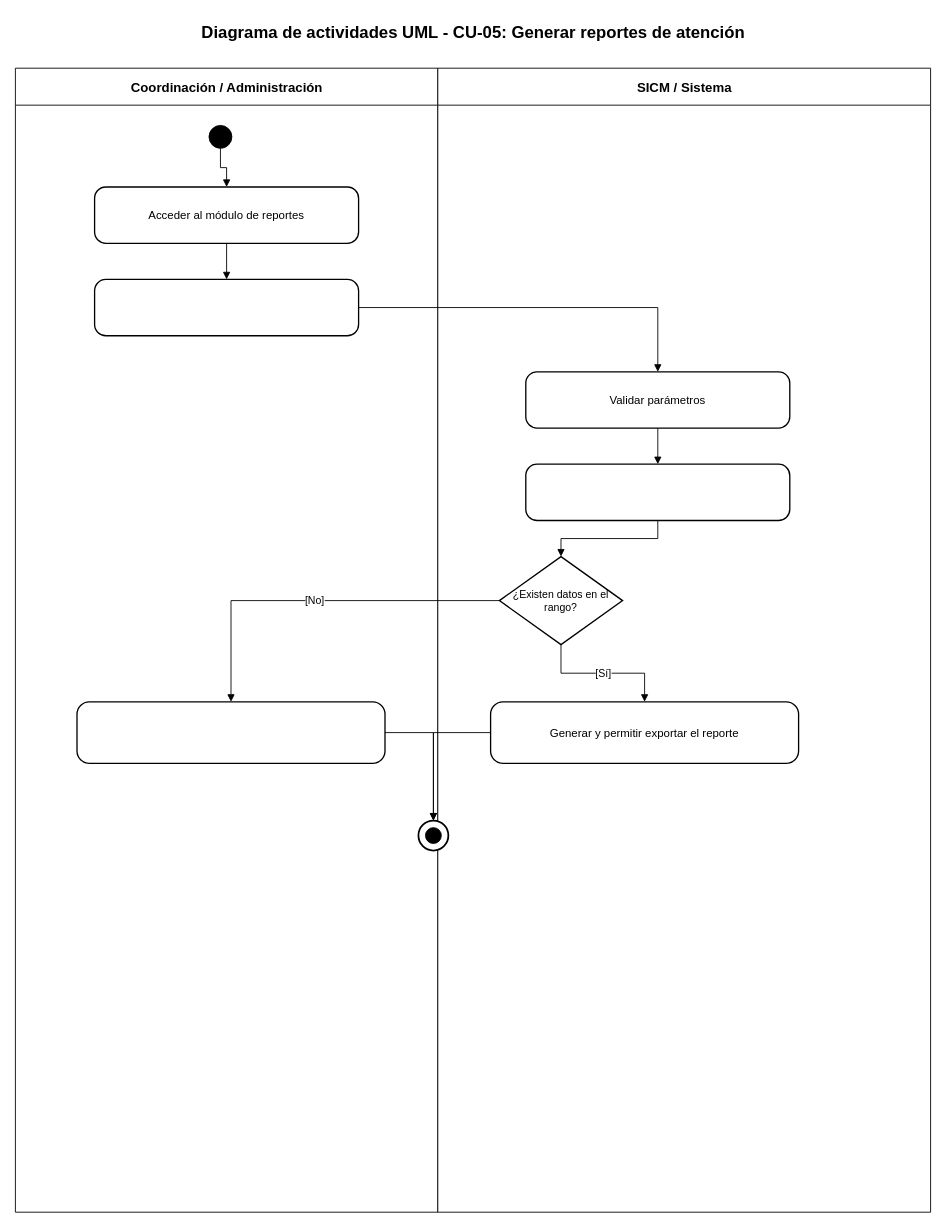
This 946x1228 diagram has some shape labels left out. The centre of each missing label's shape, as x and y in pixels:
Consultar atenciones registradas: point (657, 492)
Escoger categoría y rango de fechas: point (226, 307)
Informar que no existen atenciones: point (230, 732)
